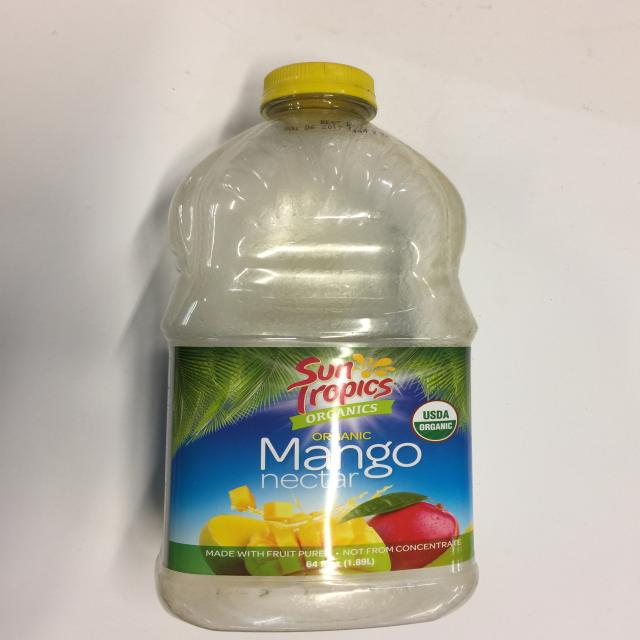plastic: (155, 61, 480, 632)
